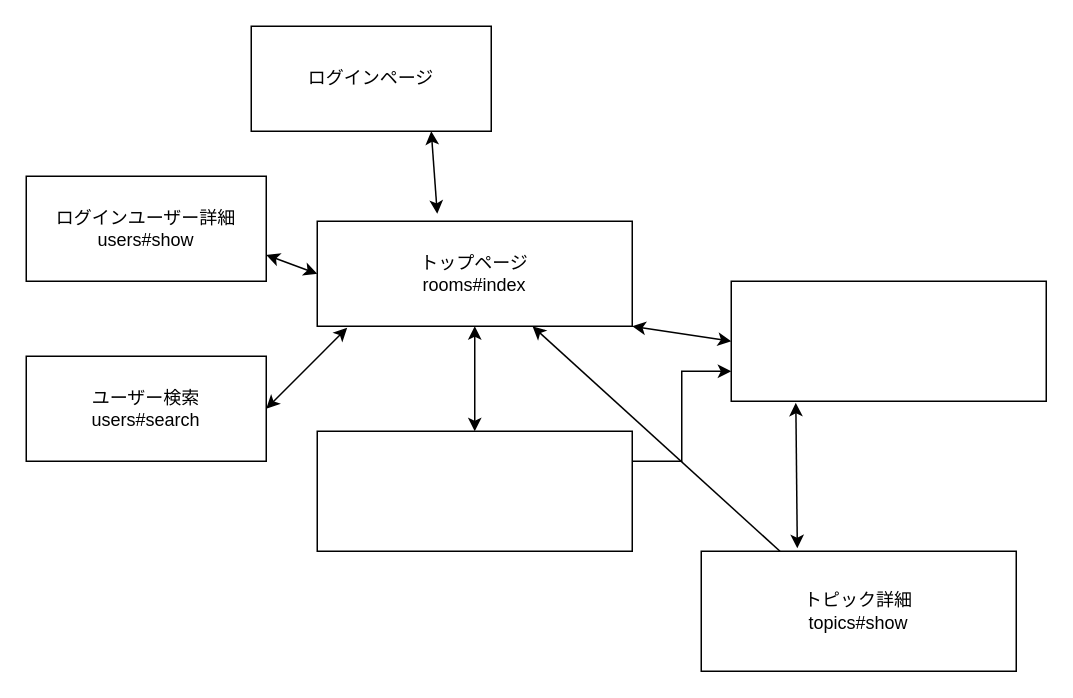
Some shapes in this 1073 by 698 pixel diagram are drawn without their labels. Each missing label, with the centre of its shape:
"トピックページ topics#index" belongs at [888,340].
"新規ルーム作成 rooms#new" belongs at [474,490].
